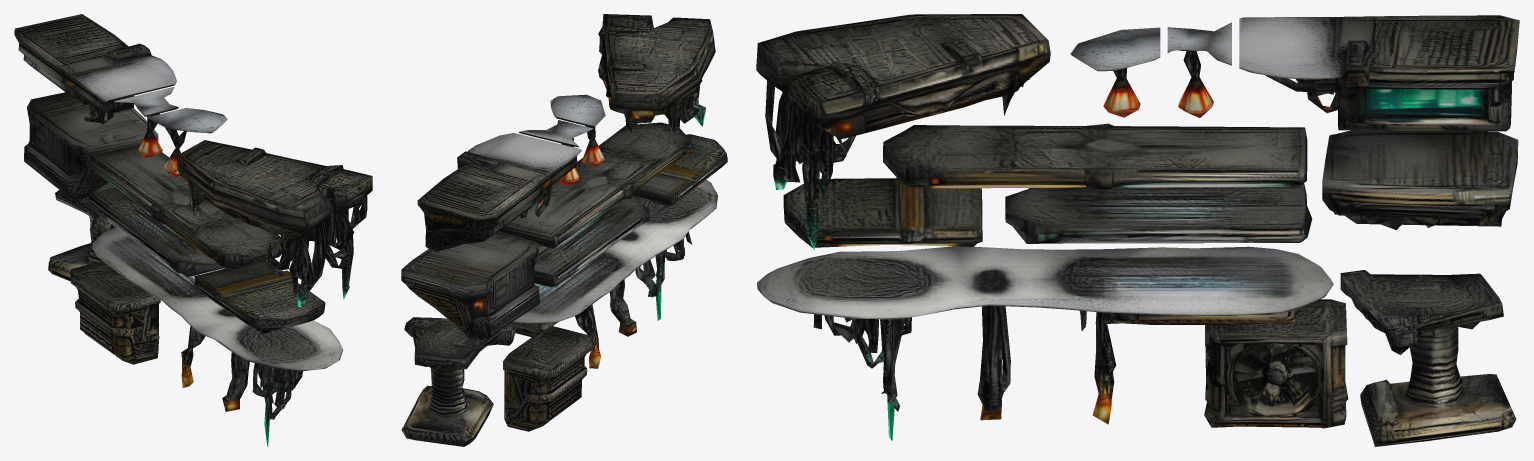
File: DecorTecho.fbx
The picture shows the model from 3 angles, left to right: view 1: azimuth 30°, elevation 25°; view 2: azimuth 150°, elevation 25°; view 3: azimuth 270°, elevation 25°; orthographic projection. The views are drawn at different scales.
Visible parts, largest first — view 1: meshes[0].012, meshes[0].004, meshes[0].007, meshes[0].008, meshes[0].002, meshes[0].001, meshes[0].010, meshes[0].005, meshes[0], meshes[0].006, meshes[0].003; view 2: meshes[0].007, meshes[0].004, meshes[0].012, meshes[0].002, meshes[0].008, meshes[0], meshes[0].001, meshes[0].005, meshes[0].010, meshes[0].006, meshes[0].003; view 3: meshes[0].004, meshes[0].012, meshes[0].007, meshes[0].008, meshes[0], meshes[0].002, meshes[0].005, meshes[0].001, meshes[0].010, meshes[0].006, meshes[0].003.
Boxes of the visible parts, x1=… form: meshes[0].012: x1=176, y1=140, x2=372, y2=306; meshes[0].004: x1=91, y1=227, x2=342, y2=446; meshes[0].007: x1=14, y1=14, x2=176, y2=124; meshes[0].008: x1=86, y1=143, x2=283, y2=269; meshes[0].002: x1=24, y1=92, x2=158, y2=199; meshes[0].001: x1=70, y1=261, x2=160, y2=364; meshes[0].010: x1=194, y1=260, x2=325, y2=333; meshes[0].005: x1=87, y1=187, x2=223, y2=276; meshes[0]: x1=48, y1=182, x2=115, y2=281; meshes[0].006: x1=147, y1=108, x2=227, y2=176; meshes[0].003: x1=114, y1=87, x2=178, y2=158; meshes[0].007: x1=417, y1=133, x2=581, y2=251; meshes[0].004: x1=509, y1=180, x2=717, y2=368; meshes[0].012: x1=598, y1=14, x2=715, y2=132; meshes[0].002: x1=401, y1=231, x2=539, y2=341; meshes[0].008: x1=499, y1=122, x2=693, y2=248; meshes[0]: x1=401, y1=317, x2=516, y2=446; meshes[0].001: x1=503, y1=326, x2=592, y2=431; meshes[0].005: x1=533, y1=195, x2=650, y2=287; meshes[0].010: x1=633, y1=134, x2=727, y2=206; meshes[0].006: x1=550, y1=94, x2=605, y2=166; meshes[0].003: x1=519, y1=120, x2=592, y2=185; meshes[0].004: x1=757, y1=246, x2=1333, y2=440; meshes[0].012: x1=756, y1=14, x2=1050, y2=249; meshes[0].007: x1=1239, y1=15, x2=1519, y2=131; meshes[0].008: x1=883, y1=123, x2=1307, y2=189; meshes[0]: x1=1340, y1=270, x2=1516, y2=446; meshes[0].002: x1=1322, y1=130, x2=1518, y2=229; meshes[0].005: x1=1005, y1=183, x2=1312, y2=243; meshes[0].001: x1=1204, y1=299, x2=1348, y2=428; meshes[0].010: x1=783, y1=177, x2=982, y2=247; meshes[0].006: x1=1070, y1=27, x2=1160, y2=117; meshes[0].003: x1=1167, y1=22, x2=1231, y2=117.
Bounding box in the file's own units: 28.26 × 57.9 × 99.86.
